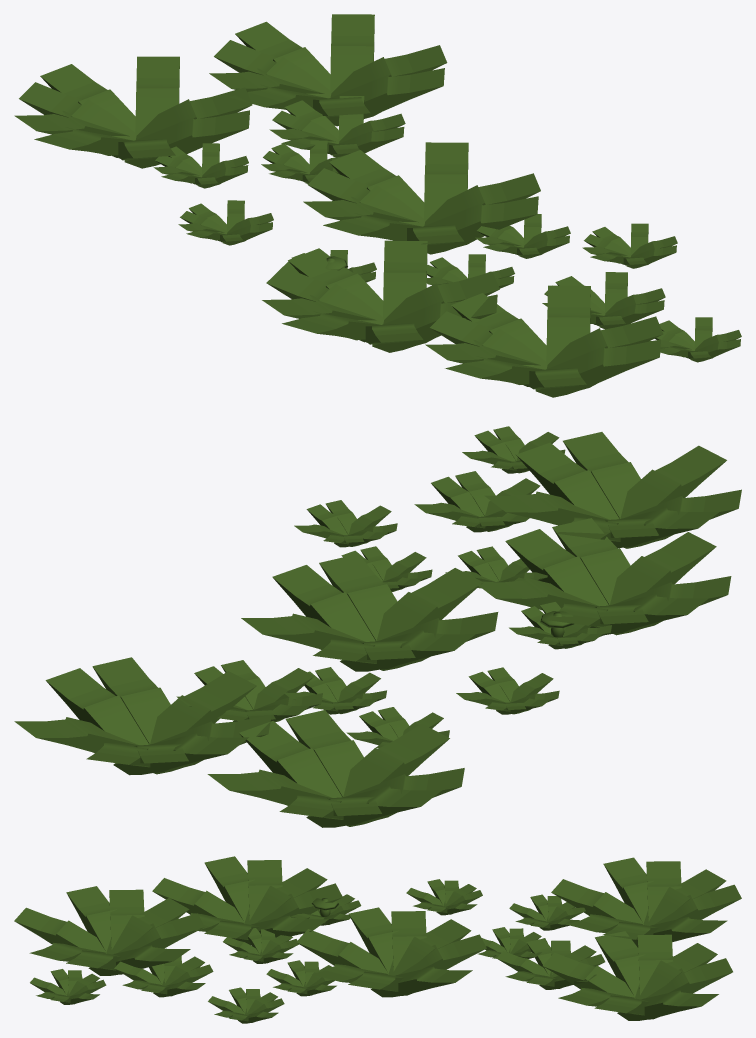
File: plant.fbx
The picture shows the model from 3 angles, top to bottom: view 1: azimuth 30°, elevation 25°; view 2: azimuth 150°, elevation 25°; view 3: azimuth 270°, elevation 25°; orthographic projection. The views are drawn at different scales.
Parts seen in each view (by area): view 1: plant; view 2: plant; view 3: plant.
Part boxes in pixels (x1,y1,x2,y2): plant: (14, 14, 741, 397); plant: (14, 426, 741, 827); plant: (14, 856, 741, 1023).
Size of the model in its own units: 0.8378 by 0.0822 by 1.64.
